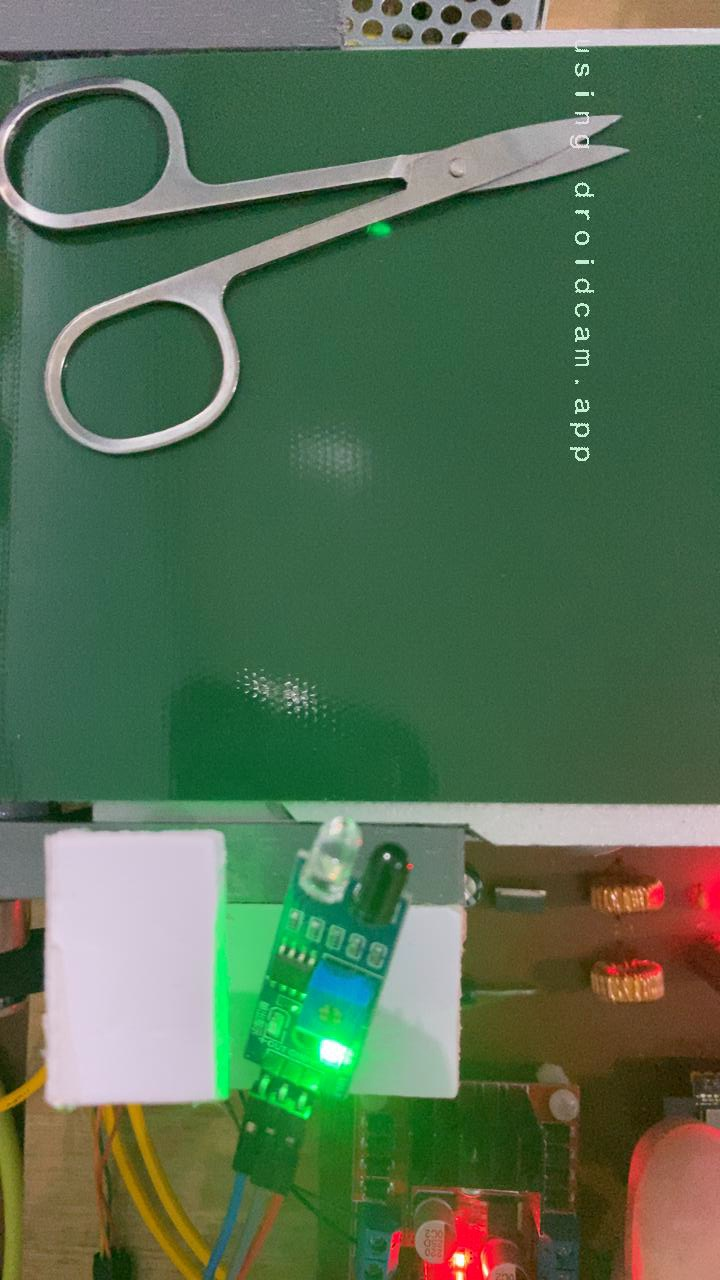scissor: (0, 70, 634, 462)
